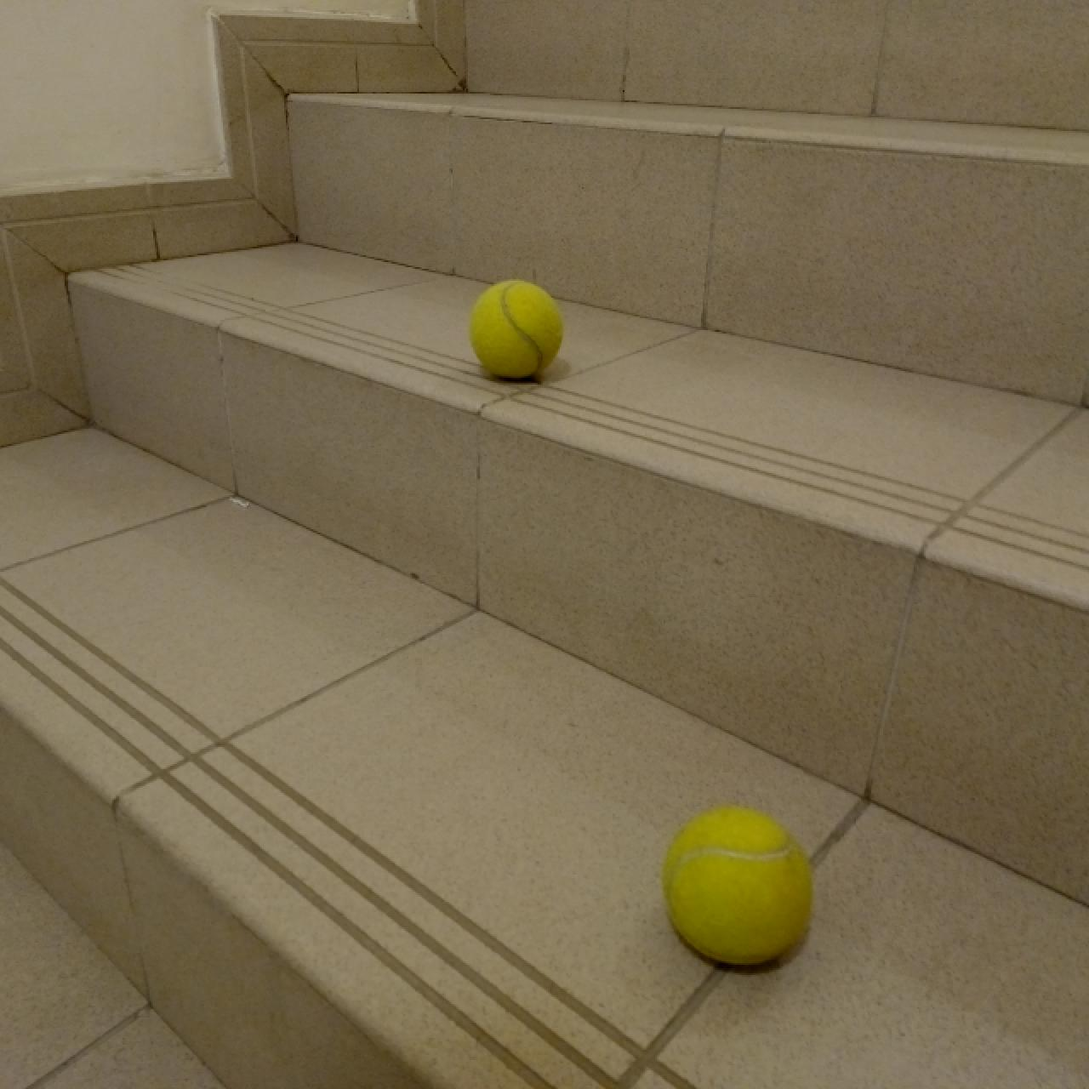tennis-ball: (661, 805, 812, 973), (465, 277, 561, 387)
